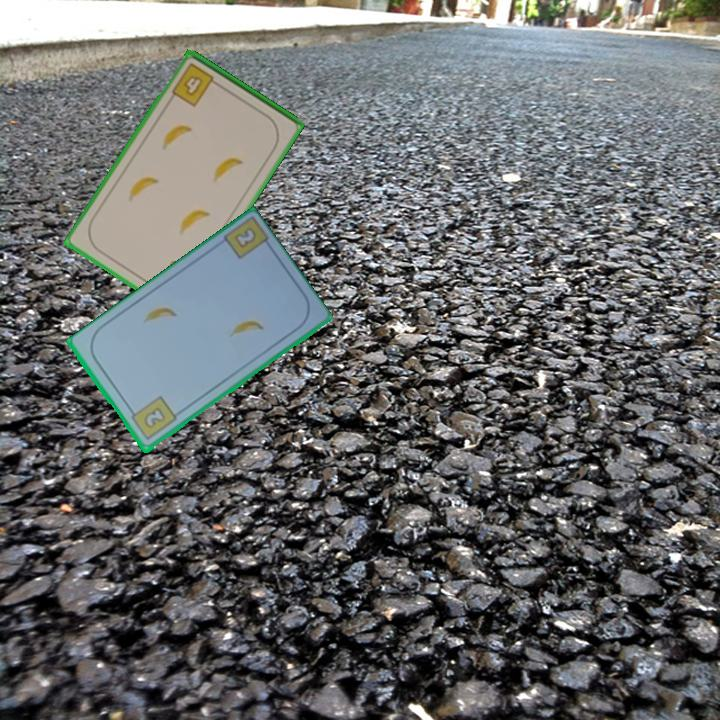2b: (125, 393, 179, 444), (231, 223, 259, 252)
4b: (168, 59, 223, 110)
